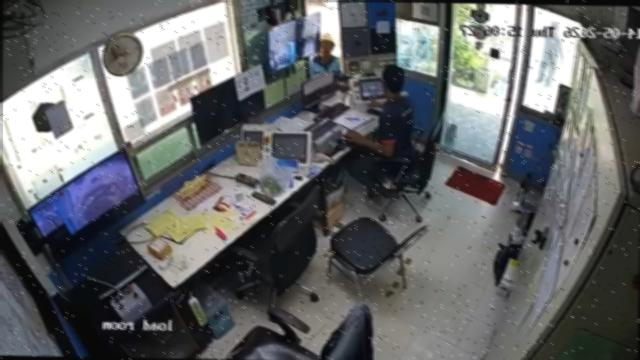Head: (380, 60, 406, 99)
People: (342, 60, 418, 172)
Phone: (363, 106, 384, 116)
